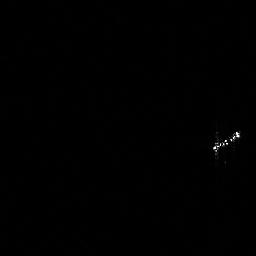ship: (208, 125, 245, 157)
